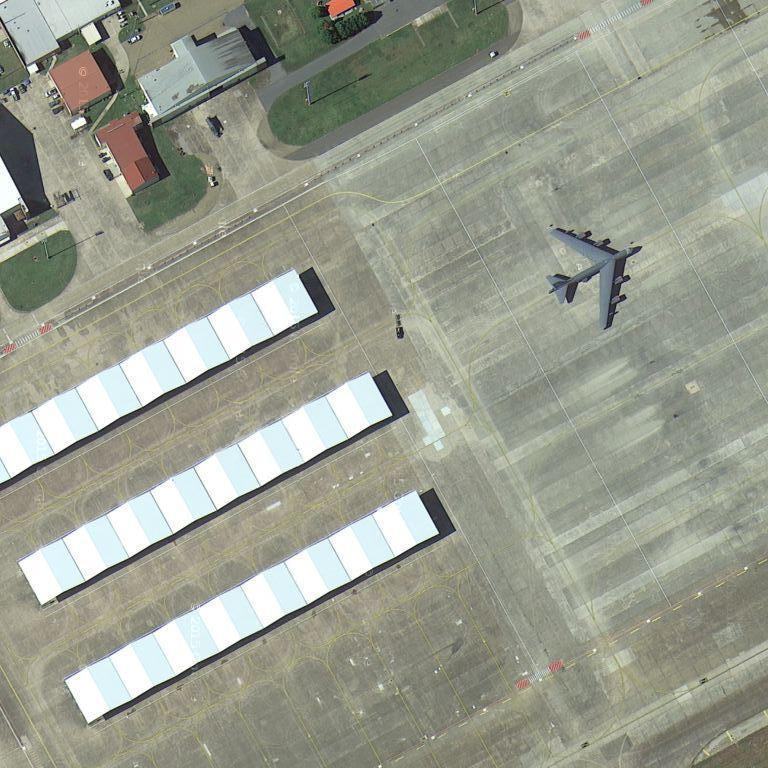B-52: (542, 222, 641, 332)
